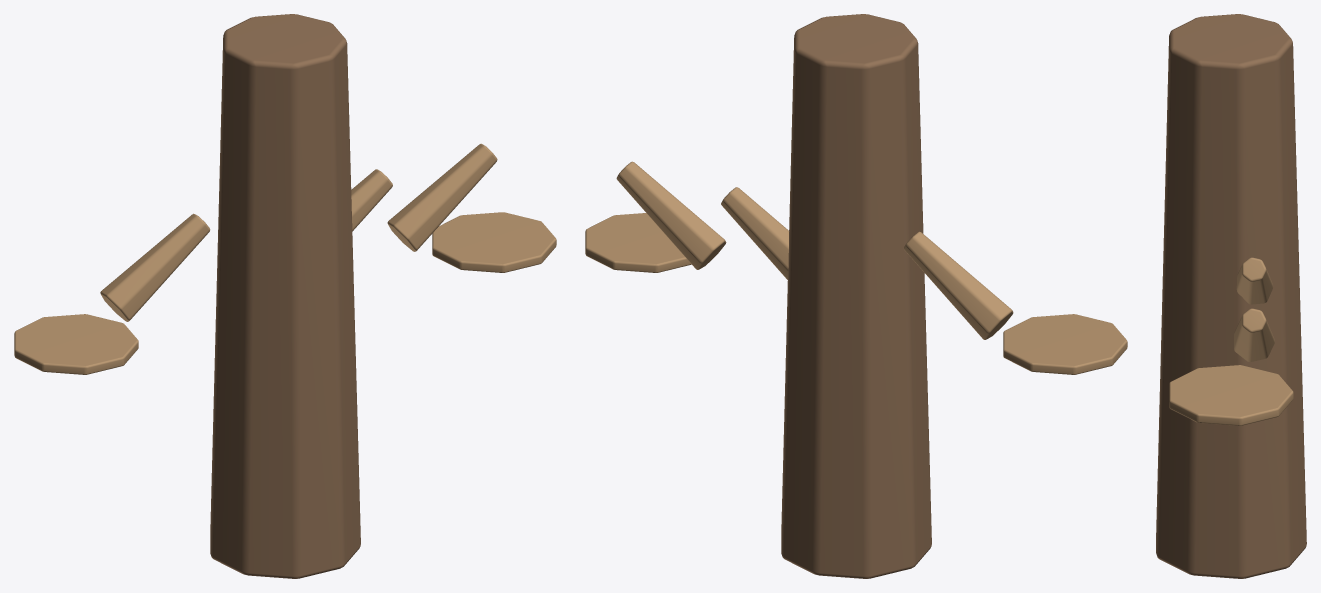
The model's file is SM_FallenLog_01.fbx.
3 renders of one model, left to right at view 1: azimuth 30°, elevation 25°; view 2: azimuth 150°, elevation 25°; view 3: azimuth 270°, elevation 25°, orthographic.
Visible parts, largest first — view 1: SM_FallenLog_01; view 2: SM_FallenLog_01; view 3: SM_FallenLog_01.
Part boxes in pixels (x1,y1,x2,y2): SM_FallenLog_01: [14, 14, 556, 578]; SM_FallenLog_01: [585, 14, 1127, 578]; SM_FallenLog_01: [1156, 14, 1306, 578].
Bounding box in the file's own units: 3.03 × 2.8 × 0.7503.
